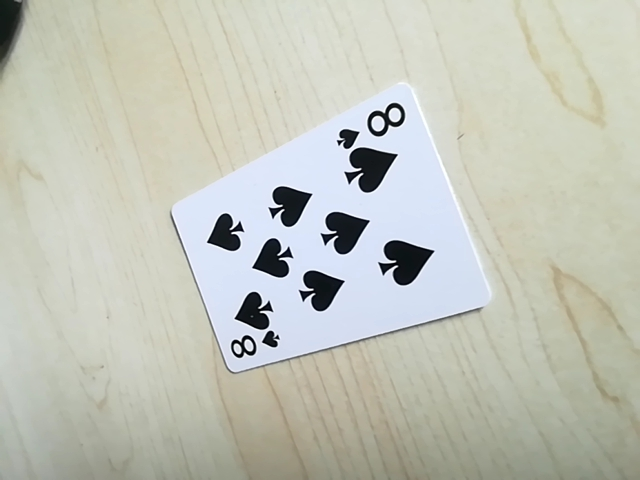ht 8: (337, 95, 413, 142), (223, 325, 283, 365)
